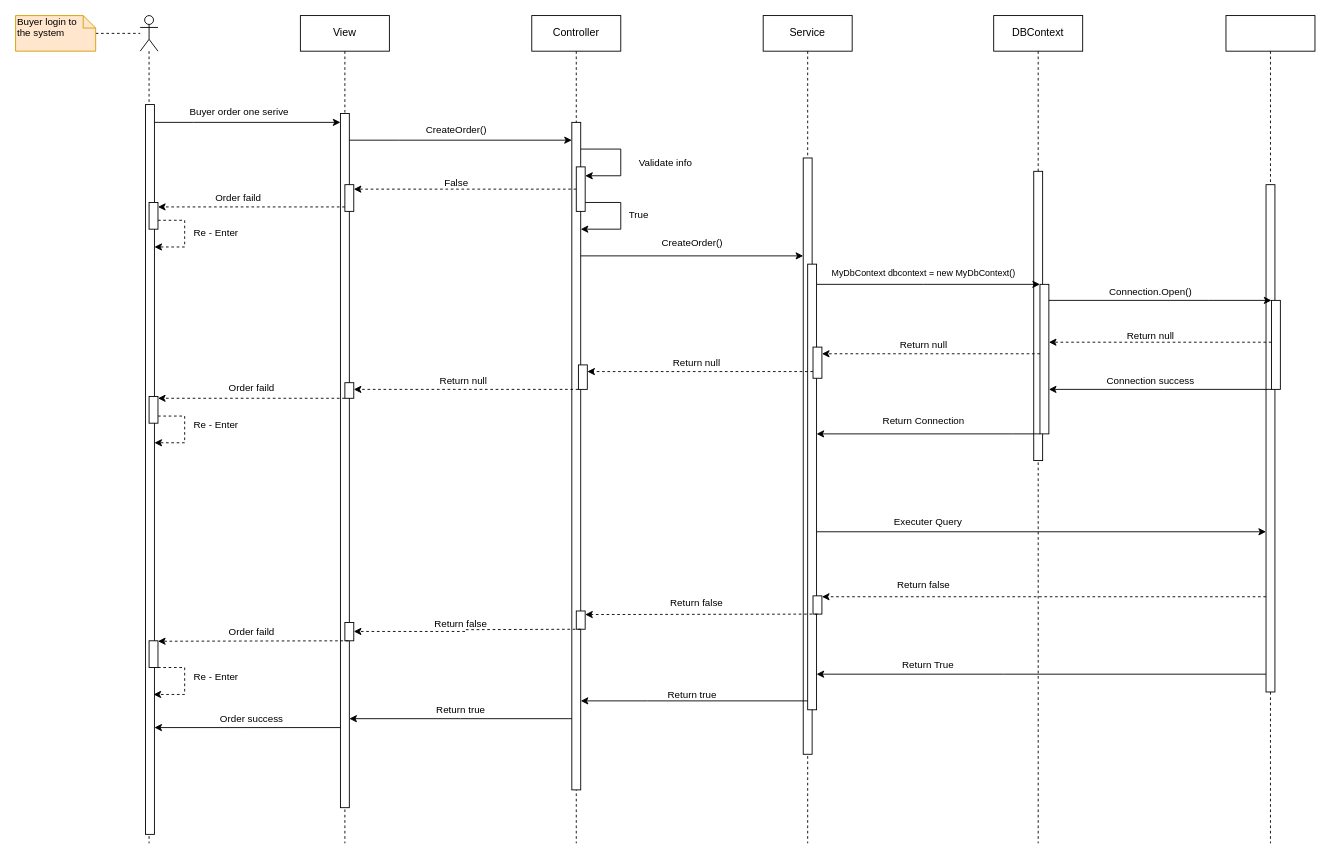
Some shapes in this 1331 by 859 pixel diagram are drawn without their labels. The shapes that lost their labels are listed below. From the top down, each one's box as (x1, y1, x2, y2) in pixels, then its label:
(139, 15, 158, 843): Buyer
(1225, 15, 1315, 843): Database
